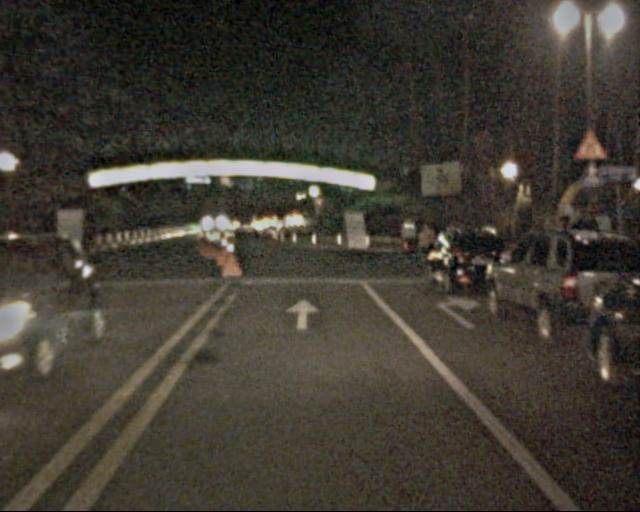person: (416, 223, 437, 275), (400, 214, 421, 264)
